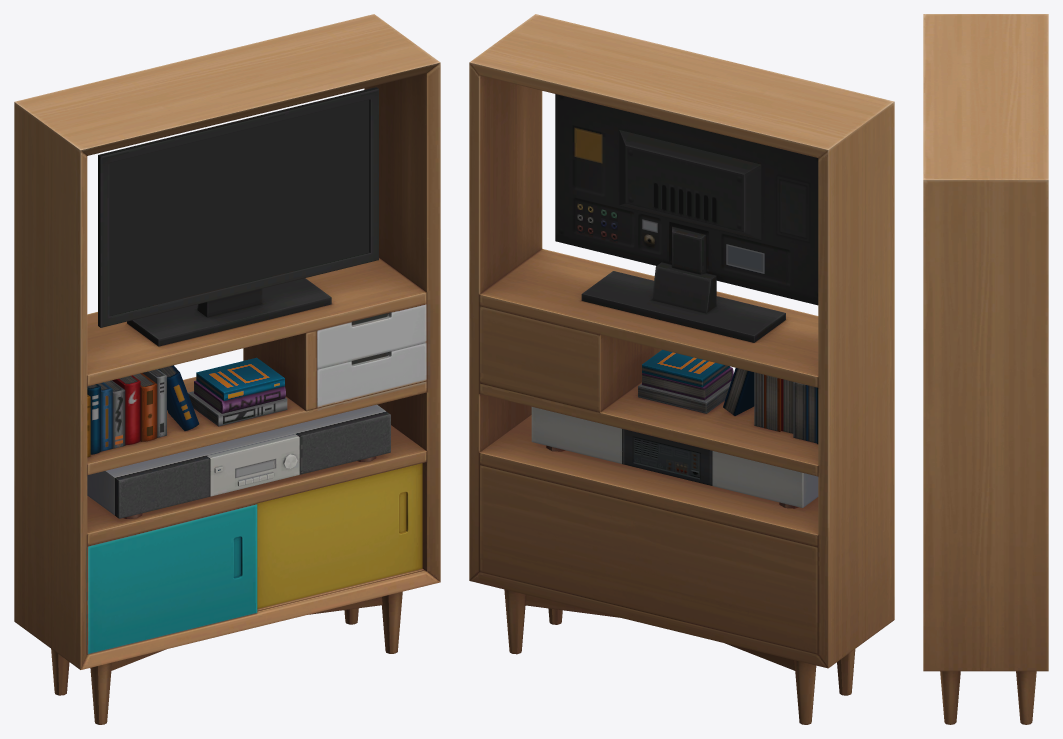
3 views of the same model, side by side, from view 1: azimuth 30°, elevation 25°; view 2: azimuth 150°, elevation 25°; view 3: azimuth 270°, elevation 25° (orthographic). The views are drawn at different scales.
Visible parts, largest first — view 1: TinyLiving_MediaMarathoner_8, s4studio_mesh_3_7; view 2: TinyLiving_MediaMarathoner_8; view 3: TinyLiving_MediaMarathoner_8.
Part boxes in pixels (x1,y1,x2,y2): TinyLiving_MediaMarathoner_8: (14, 14, 440, 724); s4studio_mesh_3_7: (109, 100, 369, 315); TinyLiving_MediaMarathoner_8: (469, 14, 894, 724); TinyLiving_MediaMarathoner_8: (923, 14, 1048, 724).
Size of the model in its own units: 1.33 by 2.09 by 0.425.
Materials: 2 (1 with a texture image).
